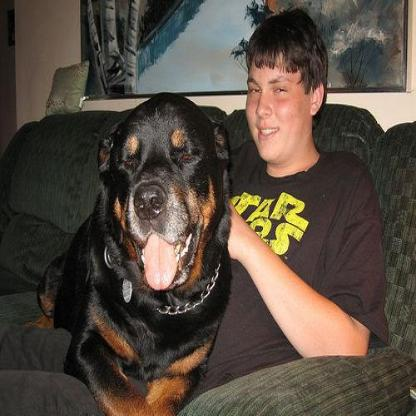Rottweiler: (23, 80, 232, 414)
